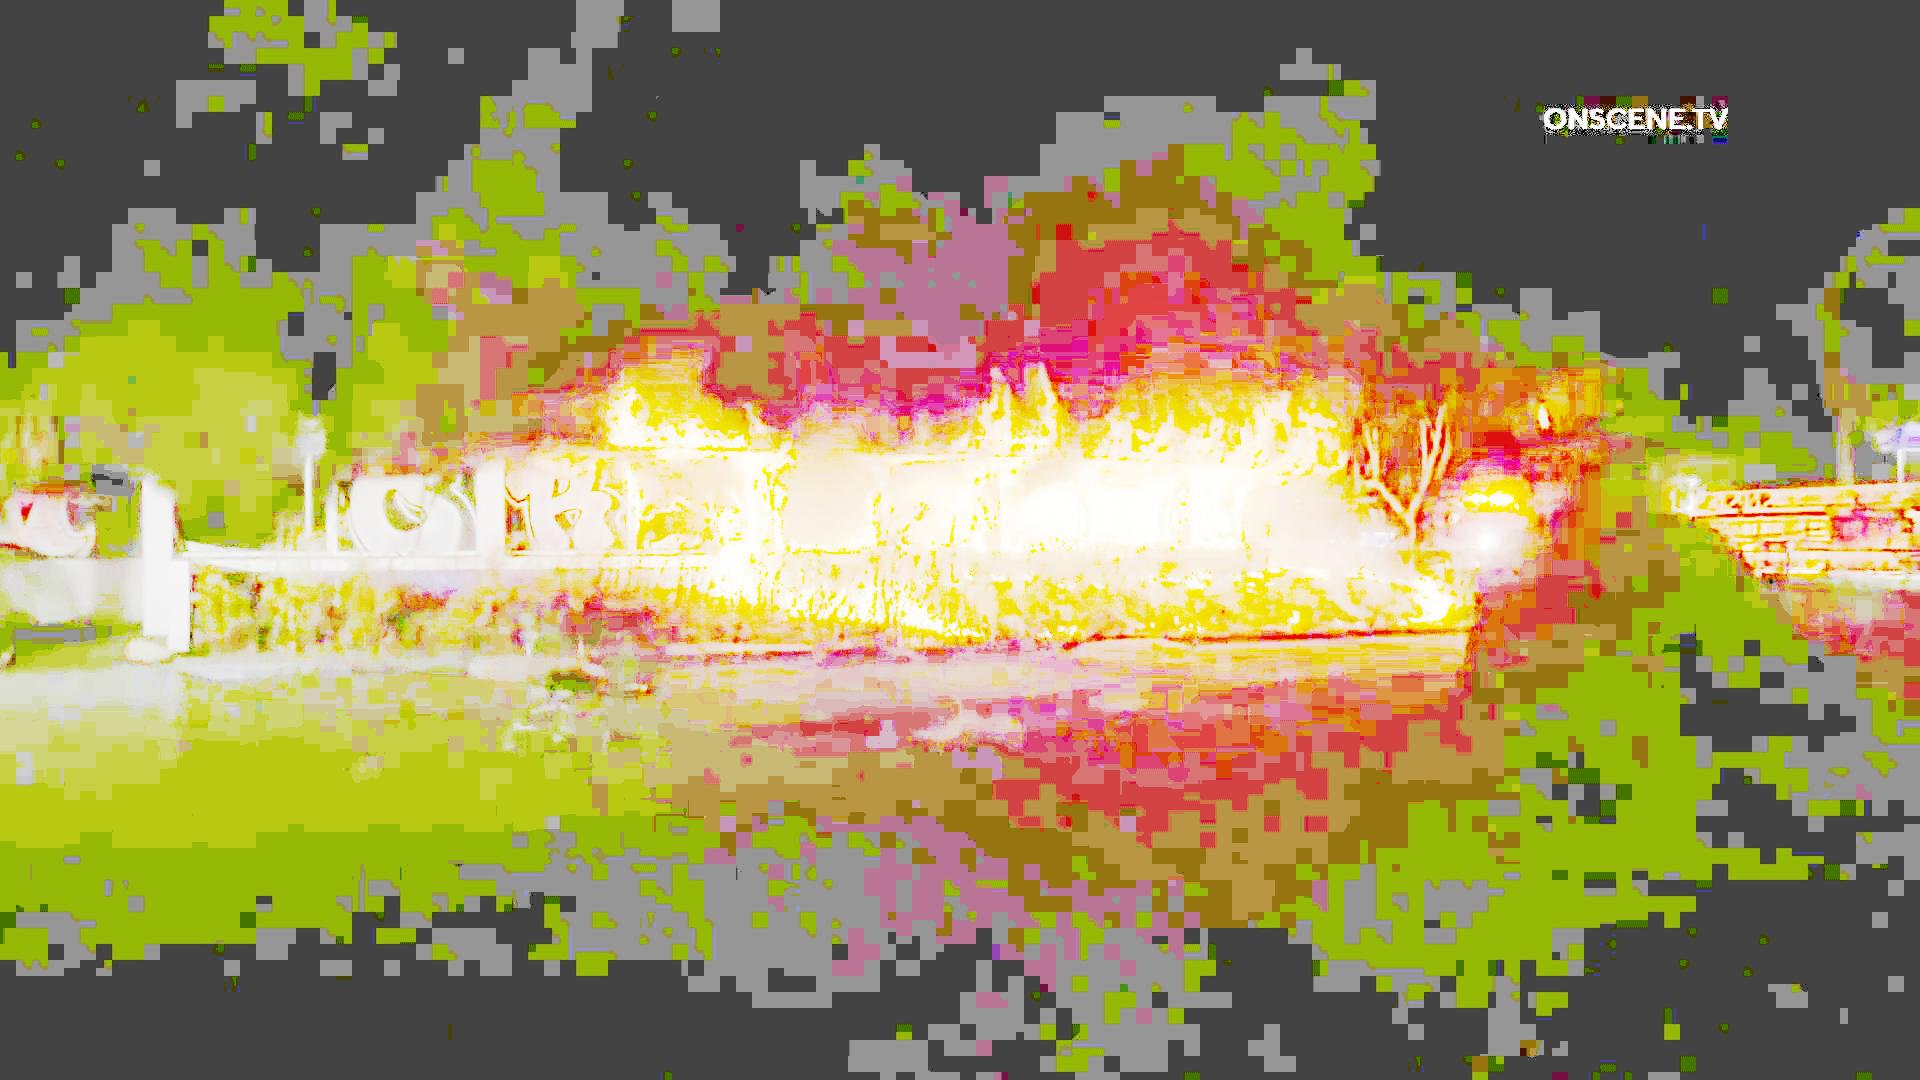fire: (990, 410, 1313, 559), (716, 446, 777, 608)
